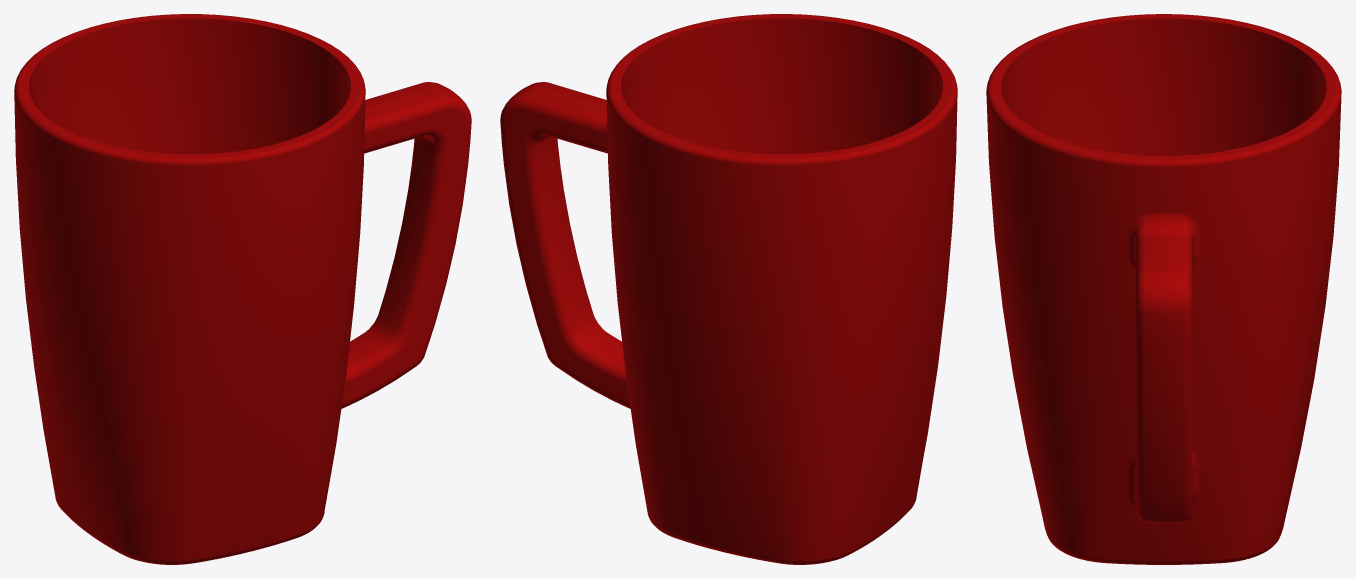
Rendered from CM-MUG051.glb.
The picture shows the model from 3 angles, left to right: view 1: azimuth 30°, elevation 25°; view 2: azimuth 150°, elevation 25°; view 3: azimuth 270°, elevation 25°; orthographic projection.
Bounding box in the file's own units: 0.0879 × 0.084 × 0.0629.
